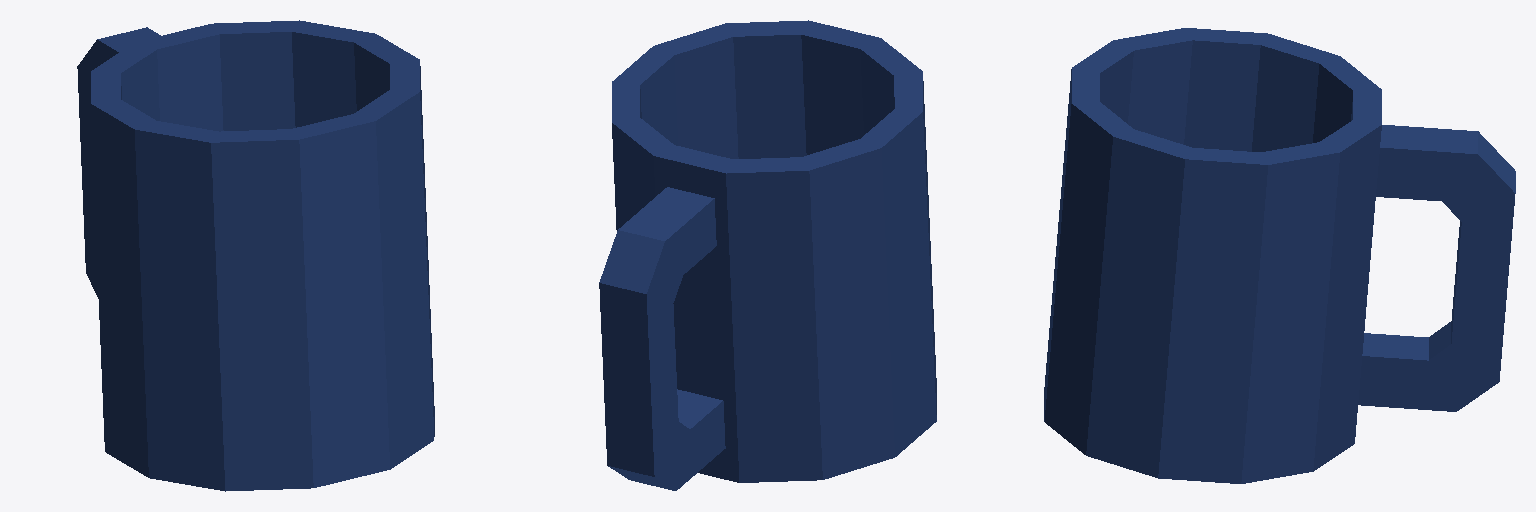
The robot description file, URDF, robot "design":
<?xml version="1.0"?>
<robot name="design">
  <material name="obj_color">
      <color rgba="0.2 0.3 0.5 1.0"/>
  </material>
  <link name="base">
    <visual>
      <origin xyz="0.0 0.0 0.0"/>
      <geometry>
        <mesh filename="model_align.obj" scale="1 1 1"/>
      </geometry>
      <material name="obj_color"/>
    </visual>
    <collision>
      <origin xyz="0.0 0.0 0.0"/>
      <geometry>
        <mesh filename="model_align.obj" scale="1 1 1"/>
      </geometry>
    </collision>
  </link>
</robot>

--- What the picture shows (computed from the rendered views, not written in the file) ---
Views: 3 orthographic renders of the robot side by side, from view 1: azimuth 30°, elevation 25°; view 2: azimuth 150°, elevation 25°; view 3: azimuth 270°, elevation 25°.
Model design with 1 links and 0 joints (none), rooted at base, posed all joints at 0.
Links seen in each view (by area): view 1: base; view 2: base; view 3: base.
Boxes of the visible links, x1,y1,x2,y2 form: base: [77, 20, 434, 491]; base: [599, 20, 936, 490]; base: [1044, 28, 1515, 483].
Bounding box of the posed robot: 0.0833 × 0.126 × 0.1006 m (x, y, z).
Meshes: 1 distinct files referenced, 1 mesh visuals loaded (1 OBJ).
